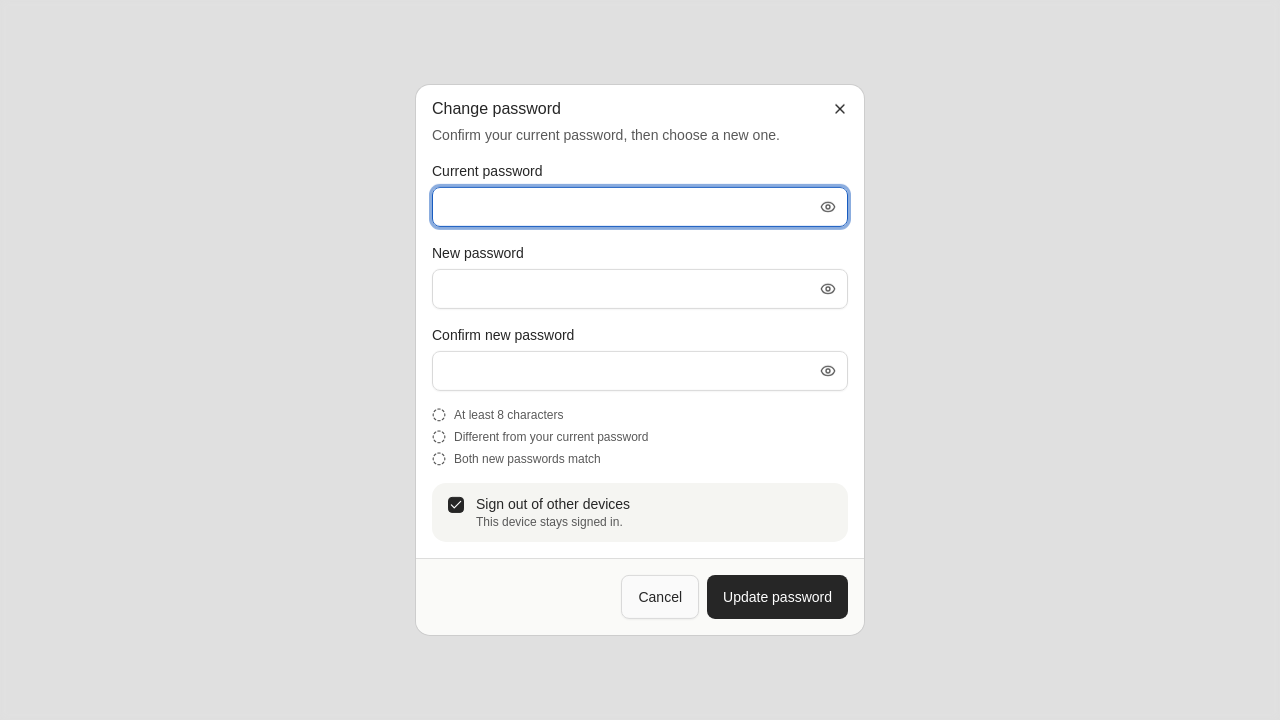
Test: ChangePasswordDialog › blocks invalid input {"confirm":"Something-Else-3"}
The image size is (1280, 720).
Type "Current-Secret-1" into the password field labelled "Current password" at (640, 207), box [432,187,848,227]
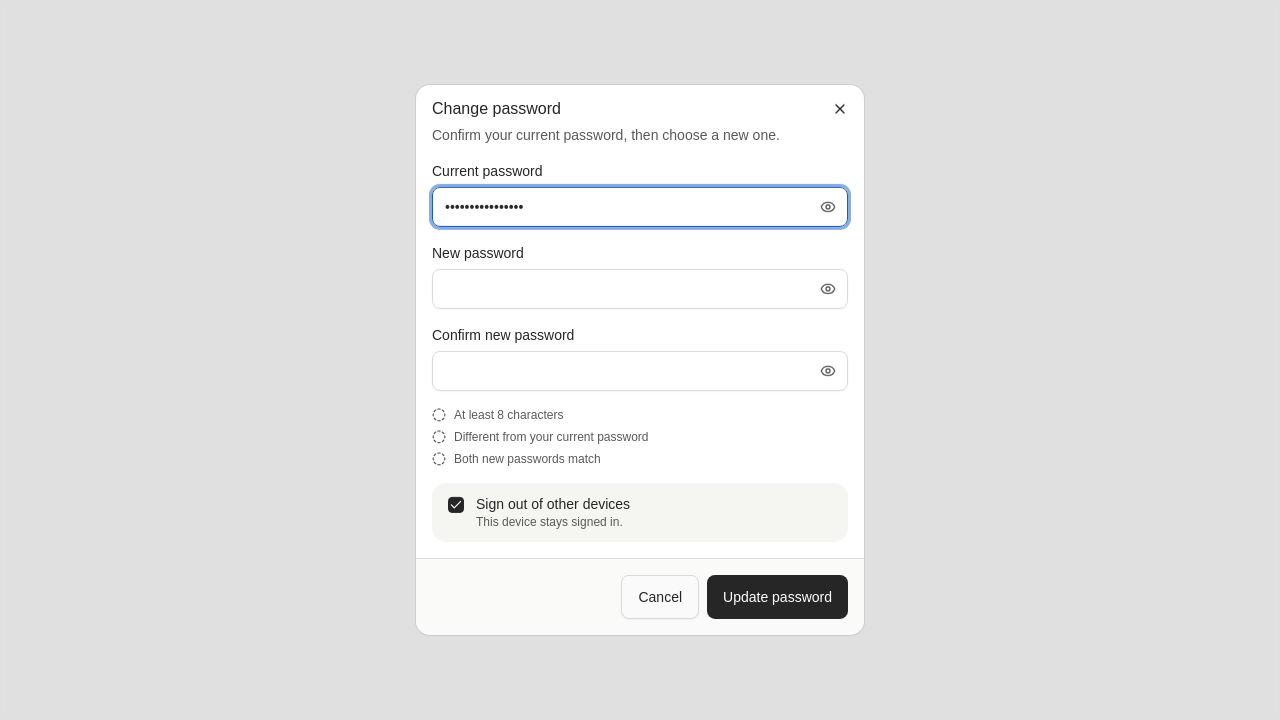
Type "Brand-New-Secret-2" into the password field labelled "New password" at (640, 289), box [432,269,848,309]
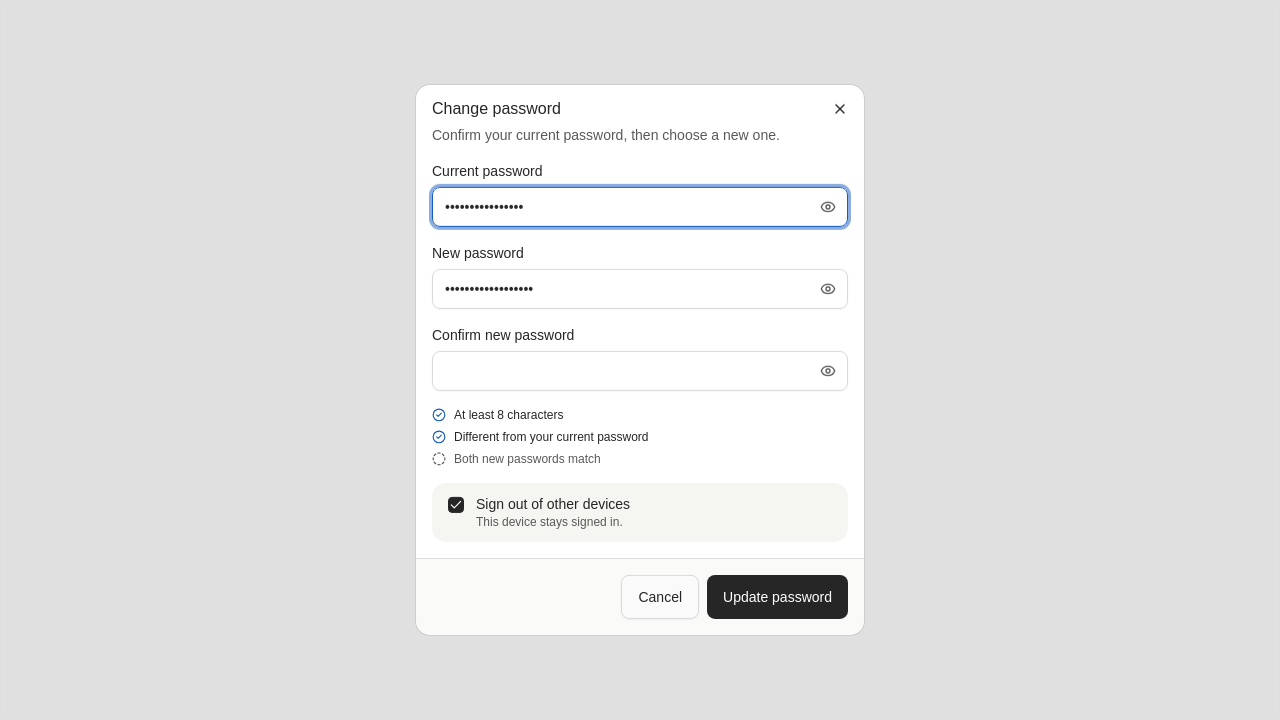
Type "Something-Else-3" into the password field labelled "Confirm new password" at (640, 371), box [432,351,848,391]
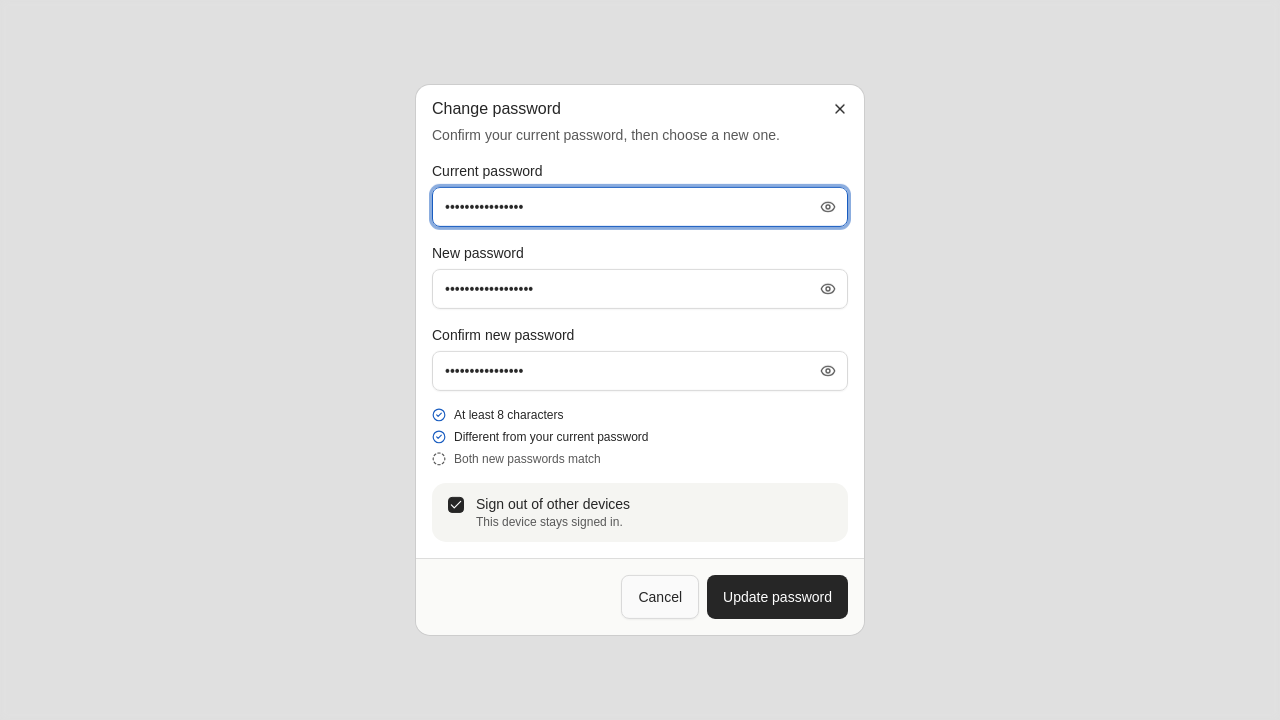
Click the button "Update password" at (778, 597), box [707,575,848,619]
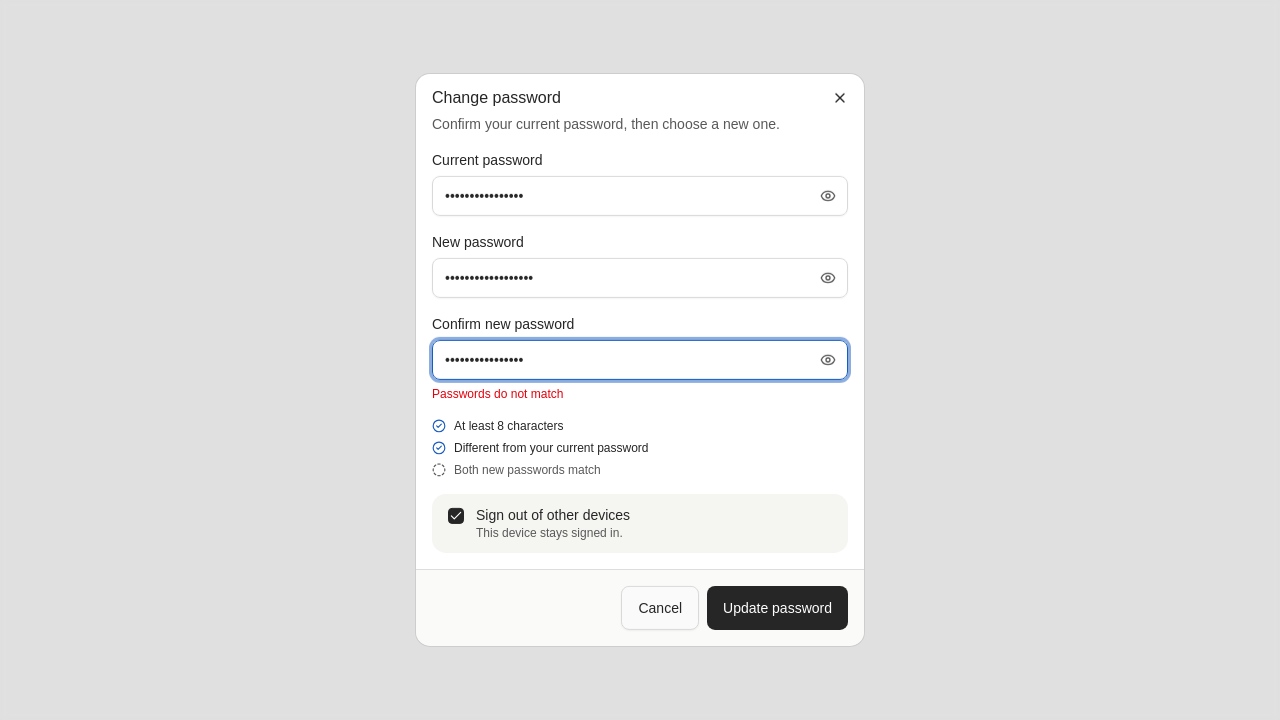
Check: the text "Passwords do not match" is shown, box [432,387,563,401]
